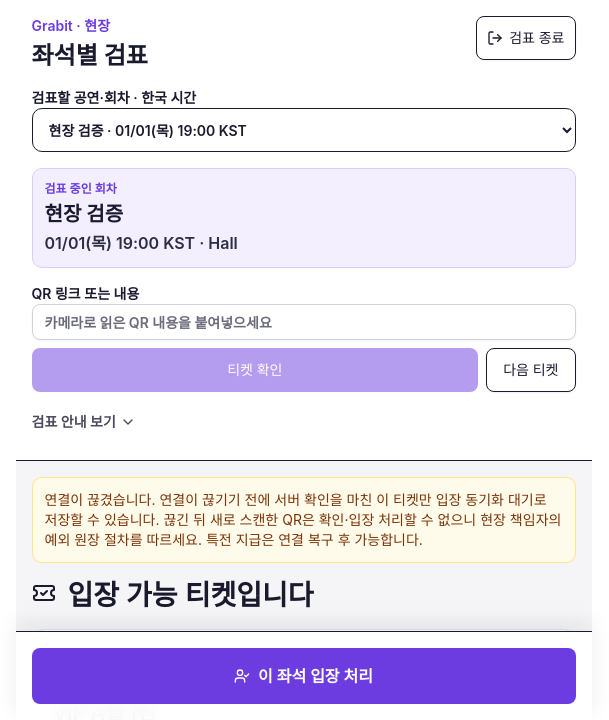
FieldCheckInPage scan attempt identity › shows the server result of this scan's own queued entry after sync instead of a fresh entry button
Step 1. Click the button "이 좌석 입장 처리" → click(304, 676), box [32,648,576,704]
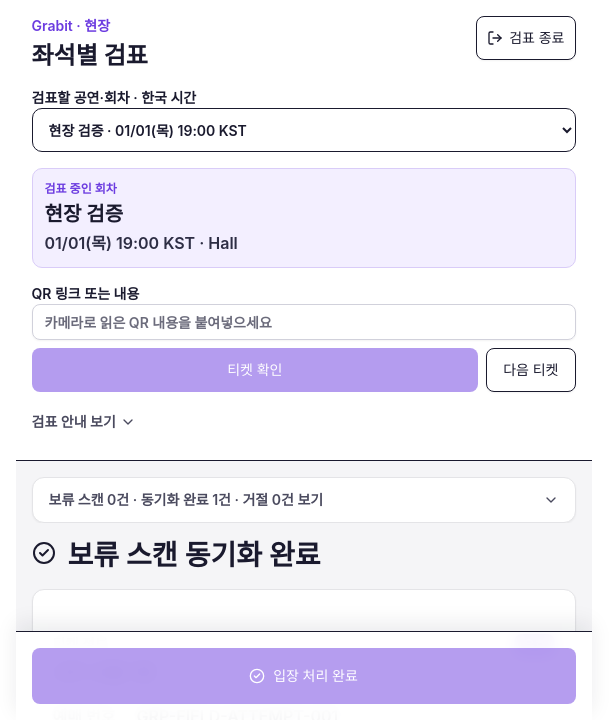
Check: the message "보류 스캔 동기화 완료" is shown, box [32,538,320,572]
Check: the button "이 좌석 입장 처리" is gone
